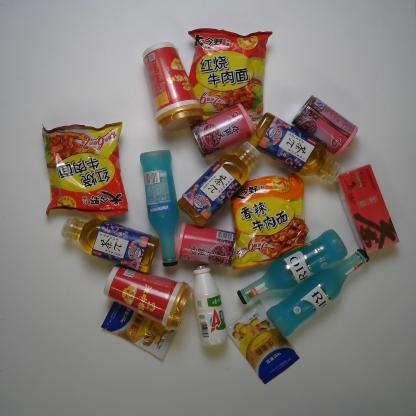Alcohol: (265, 248, 371, 340), (235, 227, 350, 306), (138, 149, 180, 268)
Canned Food: (290, 93, 358, 160), (190, 101, 258, 159), (173, 222, 239, 268)
Drink: (176, 140, 263, 231), (248, 111, 344, 184), (60, 215, 160, 274)
Instant Drink: (333, 162, 401, 257), (102, 265, 193, 332), (141, 42, 205, 134)
Instant Noodles: (186, 27, 274, 129), (40, 120, 130, 218), (230, 172, 313, 270)
Milk: (192, 263, 228, 348)
Seasoner: (226, 298, 301, 387), (99, 302, 177, 362)
